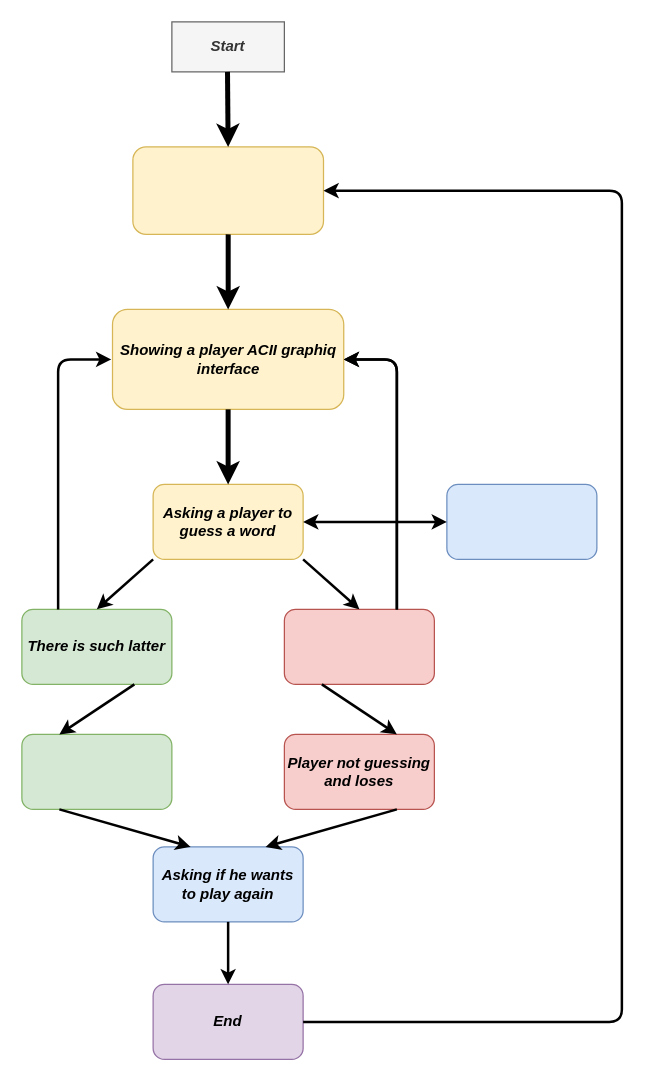
Some shapes in this 655 by 1081 pixel diagram are drawn without their labels. The box of each missing label's shape, as (x1, y1, x2, y2) in pixels:
Creating mystary word: (132, 146, 324, 234)
Player gueses and wins: (21, 733, 172, 809)
Player named same latter: (446, 483, 597, 559)
There is no such latter: (283, 608, 434, 684)
